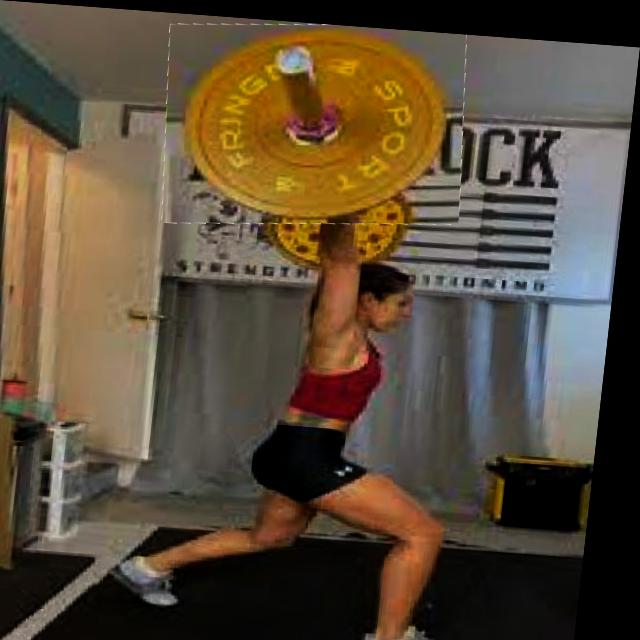barbell: (157, 11, 477, 233)
